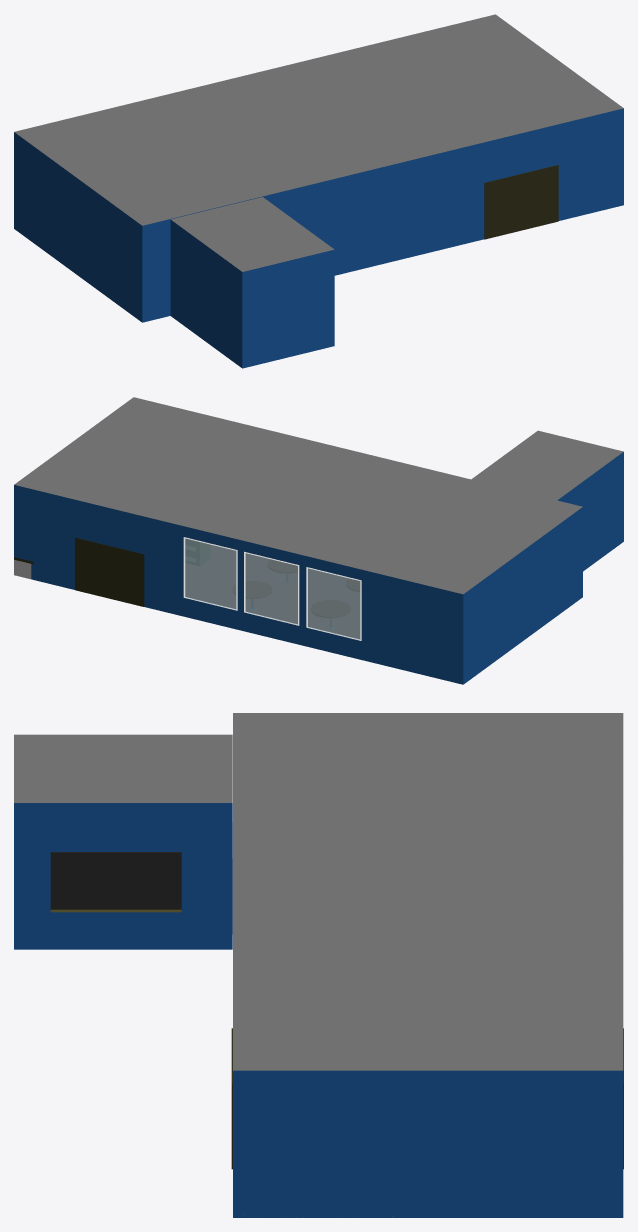
File: room.gltf
3 renders of one model, top to bottom at view 1: azimuth 30°, elevation 25°; view 2: azimuth 150°, elevation 25°; view 3: azimuth 270°, elevation 25°, orthographic. The views are drawn at different scales.
Visible parts, largest first — view 1: Room, Cube.018, Cube.005; view 2: Room, Cube.018, Cube.003, Cube.016, Cube.017, Cube.015, Cylinder.008, Cube.004, Cylinder.002; view 3: Room, Cube.018, Cube.019.
Boxes of the visible parts, box(x1,y1,x2,y2) form: Room: box(14, 14, 623, 322); Cube.018: box(170, 197, 334, 368); Cube.005: box(484, 165, 558, 239); Room: box(14, 397, 582, 684); Cube.018: box(471, 430, 623, 571); Cube.003: box(75, 537, 144, 606); Cube.016: box(244, 551, 299, 625); Cube.017: box(306, 567, 361, 640); Cube.015: box(183, 537, 237, 610); Cylinder.008: box(311, 600, 350, 617); Cube.004: box(185, 539, 210, 565); Cylinder.002: box(233, 581, 271, 598); Room: box(233, 713, 623, 1217); Cube.018: box(14, 734, 232, 949); Cube.019: box(50, 852, 181, 912).
Bounding box in the file's own units: 26 × 5.04 × 18.75.
Materials: 12 (1 with a texture image).
